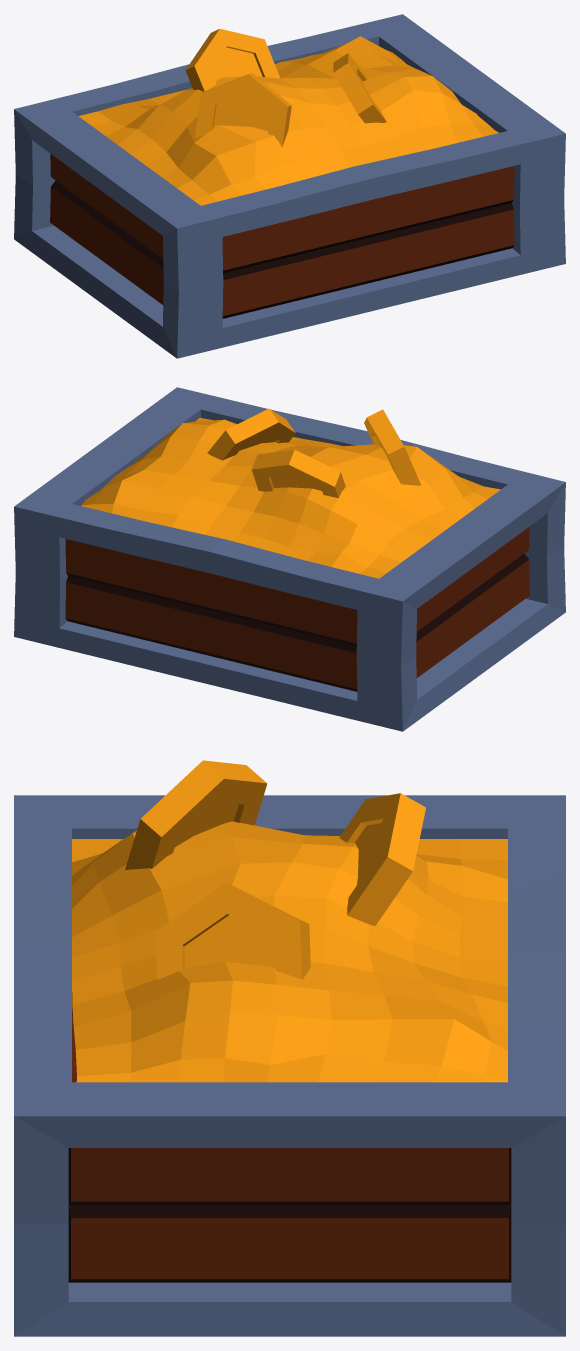
Rendered from GoalChest_Base.obj.
3 renders of one model, top to bottom at view 1: azimuth 30°, elevation 25°; view 2: azimuth 150°, elevation 25°; view 3: azimuth 270°, elevation 25°, orthographic. The views are drawn at different scales.
Visible parts, largest first — view 1: EXPORT_GoalChest_Base; view 2: EXPORT_GoalChest_Base; view 3: EXPORT_GoalChest_Base.
Boxes of the visible parts, x1,y1,x2,y2 form: EXPORT_GoalChest_Base: (14,14,565,358); EXPORT_GoalChest_Base: (14,387,565,731); EXPORT_GoalChest_Base: (14,760,565,1336).
Size of the model in its own units: 1.28 by 0.671 by 0.9322.
